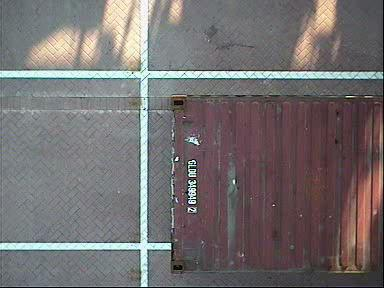groundmarker_2: (174, 139, 235, 229)
